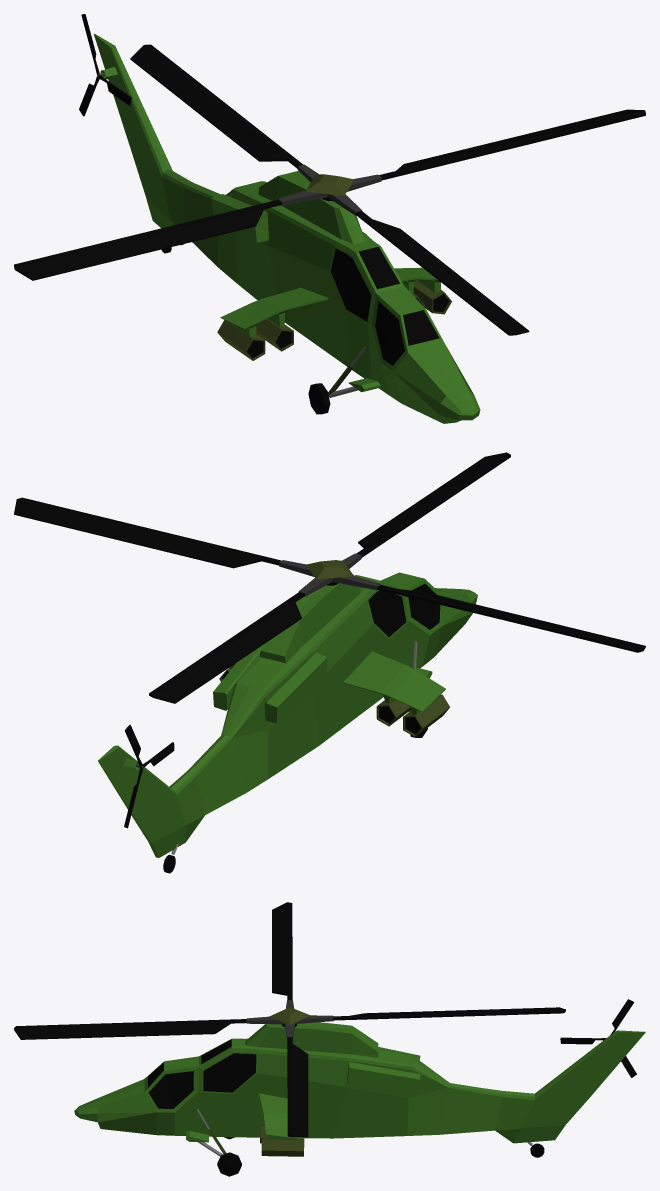
The picture shows the model from 3 angles, top to bottom: view 1: azimuth 30°, elevation 25°; view 2: azimuth 150°, elevation 25°; view 3: azimuth 270°, elevation 25°; orthographic projection. The views are drawn at different scales.
Parts seen in each view (by area): view 1: Circle.028, Circle.029, Circle.033, Circle.034, Landing gear _F.004, Circle.030; view 2: Circle.028, Circle.029, Circle.033, Circle.034, Circle.030; view 3: Circle.028, Circle.029, Circle.031, Circle.032, Landing gear _F.004, Circle.030.
Part boxes in pixels (x1,y1,x2,y2): Circle.028: [93, 33, 480, 423]; Circle.029: [14, 44, 645, 335]; Circle.033: [329, 241, 374, 323]; Circle.034: [372, 293, 407, 370]; Landing gear _F.004: [308, 346, 366, 414]; Circle.030: [79, 14, 131, 116]; Circle.028: [98, 572, 477, 857]; Circle.029: [14, 452, 645, 703]; Circle.033: [366, 581, 407, 638]; Circle.034: [404, 578, 442, 635]; Circle.030: [124, 724, 174, 828]; Circle.028: [74, 1022, 645, 1156]; Circle.029: [14, 902, 565, 1137]; Circle.031: [201, 1048, 257, 1093]; Circle.032: [144, 1067, 198, 1112]; Landing gear _F.004: [197, 1109, 241, 1176]; Circle.030: [560, 999, 636, 1077].
Bounding box in the file's own units: 1429 × 429 × 1635.
